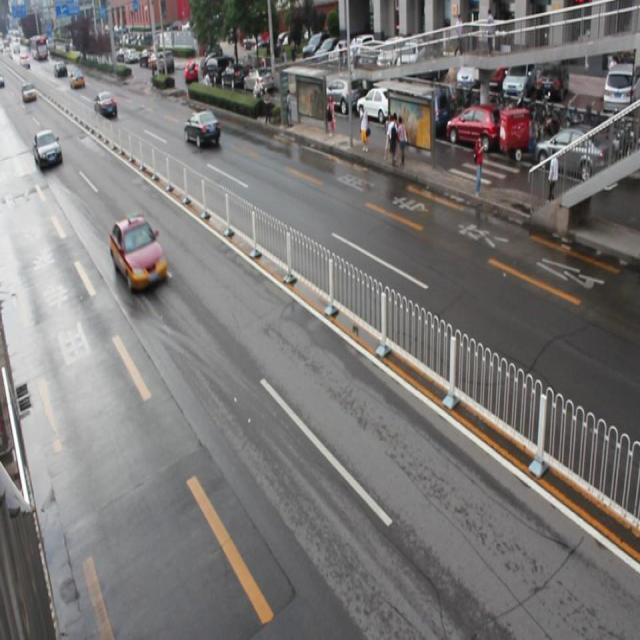car: (111, 215, 166, 291), (184, 110, 221, 146), (34, 128, 63, 171)
